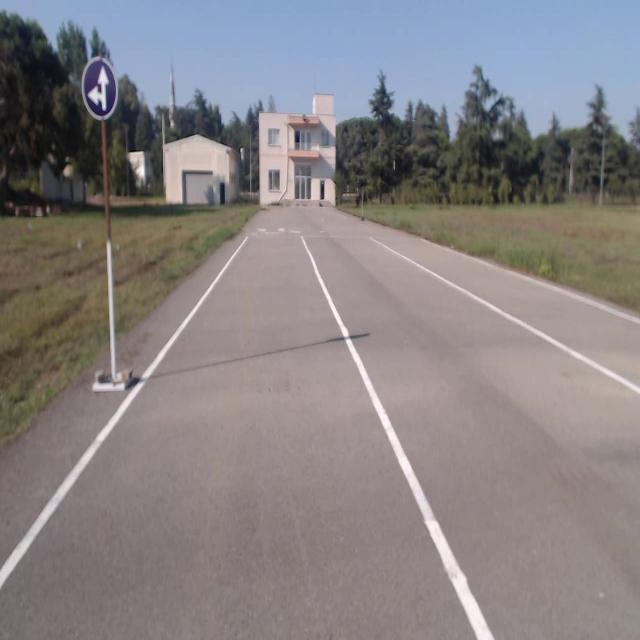ilerisol: (83, 60, 117, 116)
